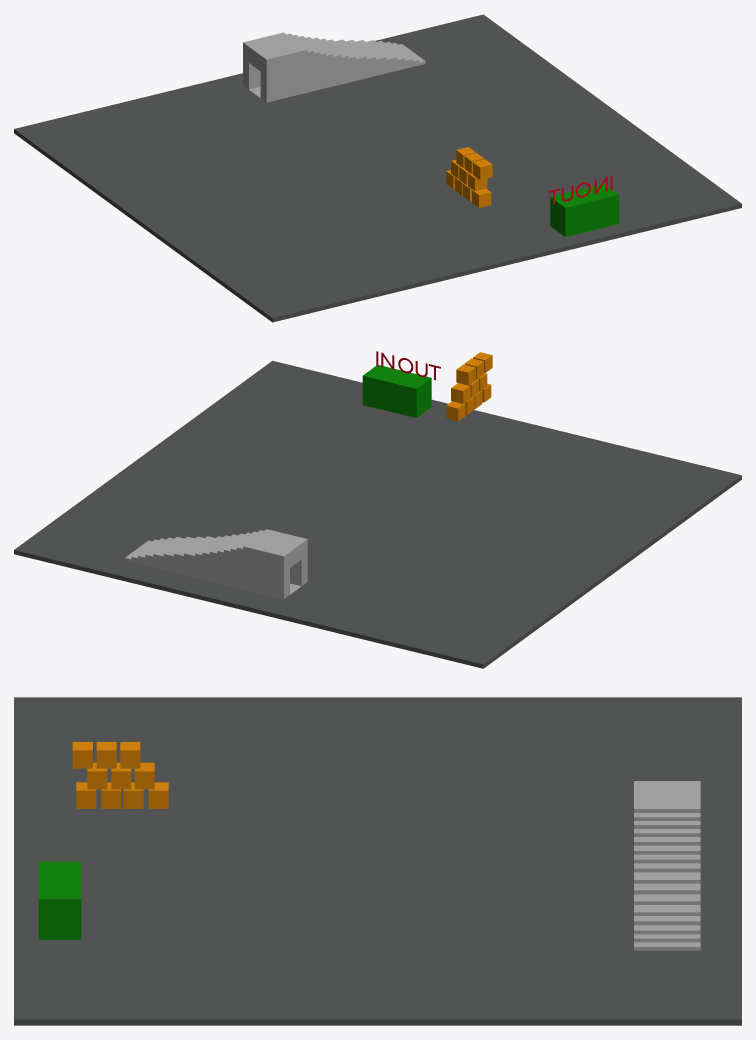
File: test-world6.glb
3 renders of one model, top to bottom at view 1: azimuth 30°, elevation 25°; view 2: azimuth 150°, elevation 25°; view 3: azimuth 270°, elevation 25°, orthographic. The views are drawn at different scales.
Parts seen in each view (by area): view 1: mesh.002, mesh.001, event.001; view 2: mesh.002, mesh.001, event.001; view 3: mesh.002, mesh.001, event.001, obj.008, obj.009, obj.010, obj.003.
Part boxes in pixels (<box>): mesh.002: <box>14,14,741,322</box>; mesh.001: <box>243,32,425,102</box>; event.001: <box>550,184,619,236</box>; mesh.002: <box>14,360,741,668</box>; mesh.001: <box>125,529,307,599</box>; event.001: <box>362,365,431,417</box>; mesh.002: <box>14,697,741,1025</box>; mesh.001: <box>634,781,700,950</box>; event.001: <box>38,861,81,939</box>; obj.008: <box>96,742,116,768</box>; obj.009: <box>72,742,92,768</box>; obj.010: <box>120,742,140,768</box>; obj.003: <box>134,762,154,789</box>.
Bounding box in the file's own units: 22.88 × 3.91 × 21.82.
